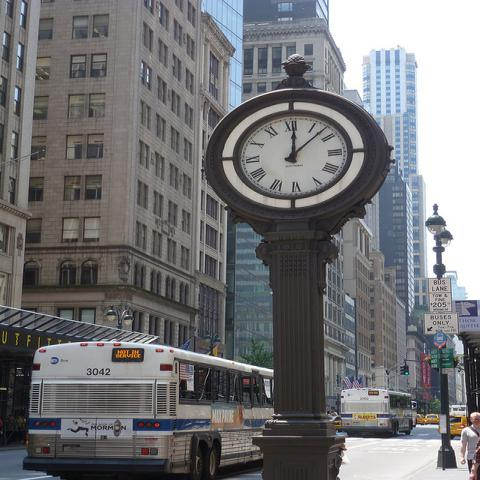bus: (21, 340, 276, 480), (341, 390, 419, 436)
car: (437, 415, 468, 440), (327, 412, 343, 432), (423, 414, 440, 426), (417, 414, 425, 425)
